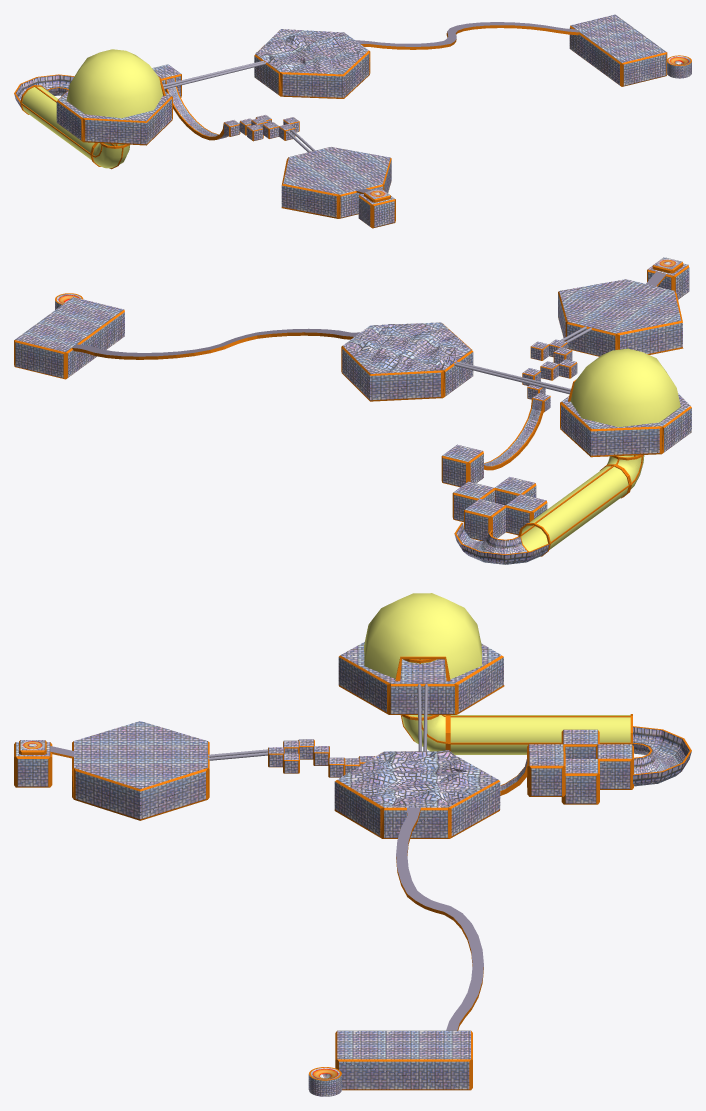
File: Level38.fbx
The picture shows the model from 3 angles, top to bottom: view 1: azimuth 30°, elevation 25°; view 2: azimuth 150°, elevation 25°; view 3: azimuth 270°, elevation 25°; orthographic projection. The views are drawn at different scales.
Visible parts, largest first — view 1: Level38; view 2: Level38; view 3: Level38.
Boxes of the visible parts, x1=… form: Level38: x1=14, y1=14, x2=691, y2=228; Level38: x1=14, y1=257, x2=691, y2=564; Level38: x1=14, y1=593, x2=691, y2=1096.
Size of the model in its own units: 7638 by 1561 by 5903.
13 materials, 7 textured.
